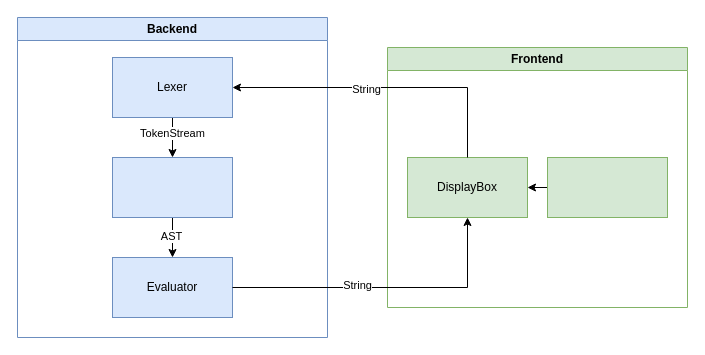
Some shapes in this 705 by 355 pixel diagram are drawn without their labels. Here are the shapes that lost their labels. From the top down, the box of each, then its label:
(112, 156, 232, 218): Parser
(546, 156, 668, 218): Button
